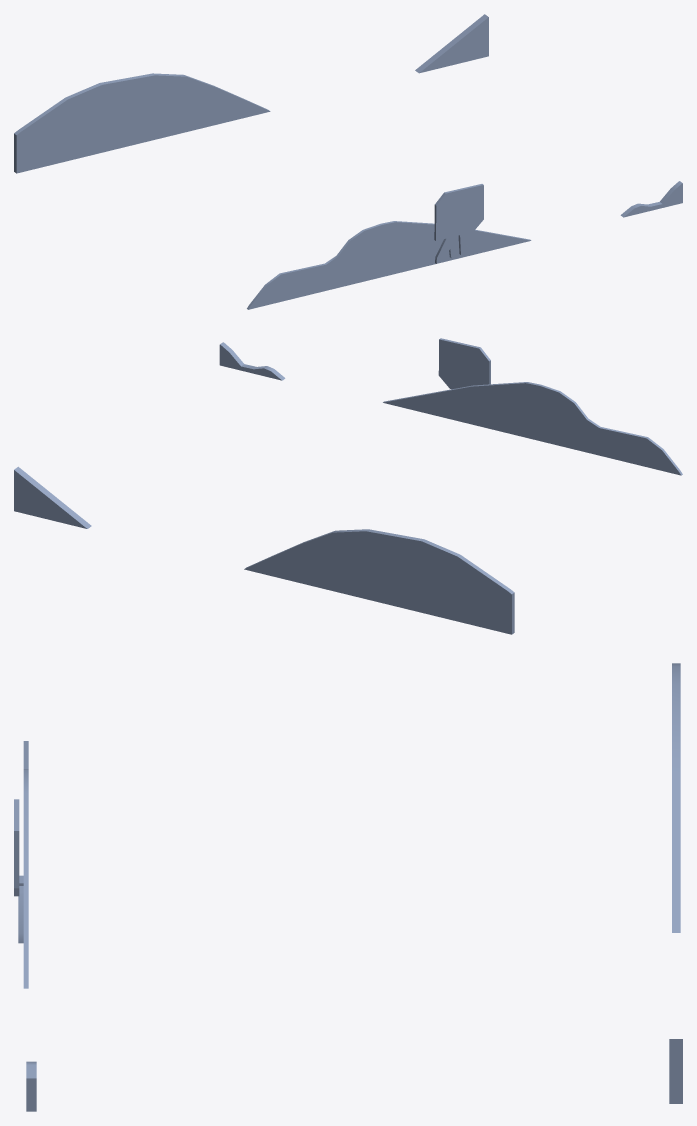
File: frame_0076.glb
3 renders of one model, top to bottom at view 1: azimuth 30°, elevation 25°; view 2: azimuth 150°, elevation 25°; view 3: azimuth 270°, elevation 25°, orthographic. The views are drawn at different scales.
Parts seen in each view (by area): view 1: export_trees_001.002; view 2: export_trees_001.002; view 3: export_trees_001.002.
Part boxes in pixels (x1=…): export_trees_001.002: x1=14, y1=14, x2=682, y2=309; export_trees_001.002: x1=14, y1=338, x2=682, y2=634; export_trees_001.002: x1=14, y1=663, x2=682, y2=1111.
Bounding box in the file's own units: 0.4327 × 0.0622 × 0.321.
